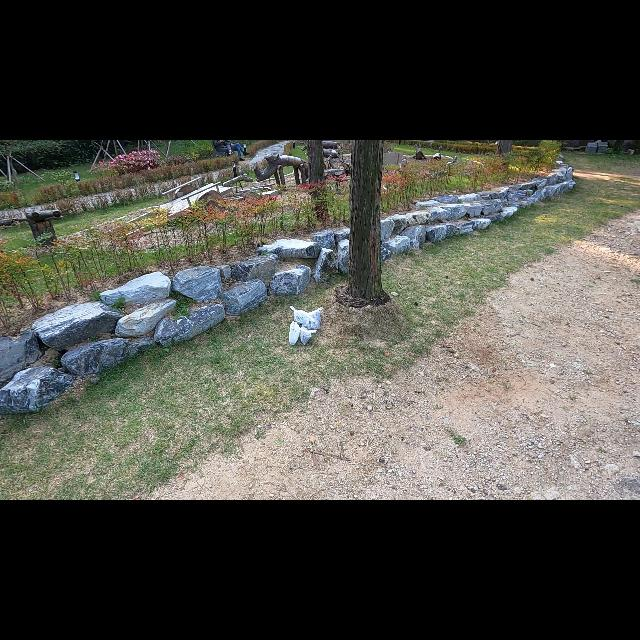trash: (290, 304, 312, 326), (301, 314, 321, 331), (286, 322, 300, 346), (306, 306, 324, 324), (298, 328, 318, 344)
